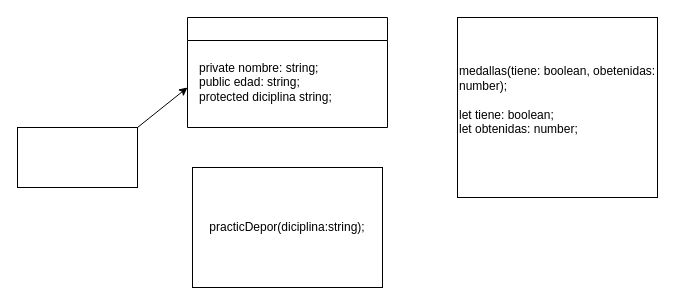
This 675x305 diagram has some shape labels left out. Each missing label, with the box of its shape:
constructor(); nombre(); edad():: (16, 126, 138, 188)
Deportista: (186, 16, 388, 128)
